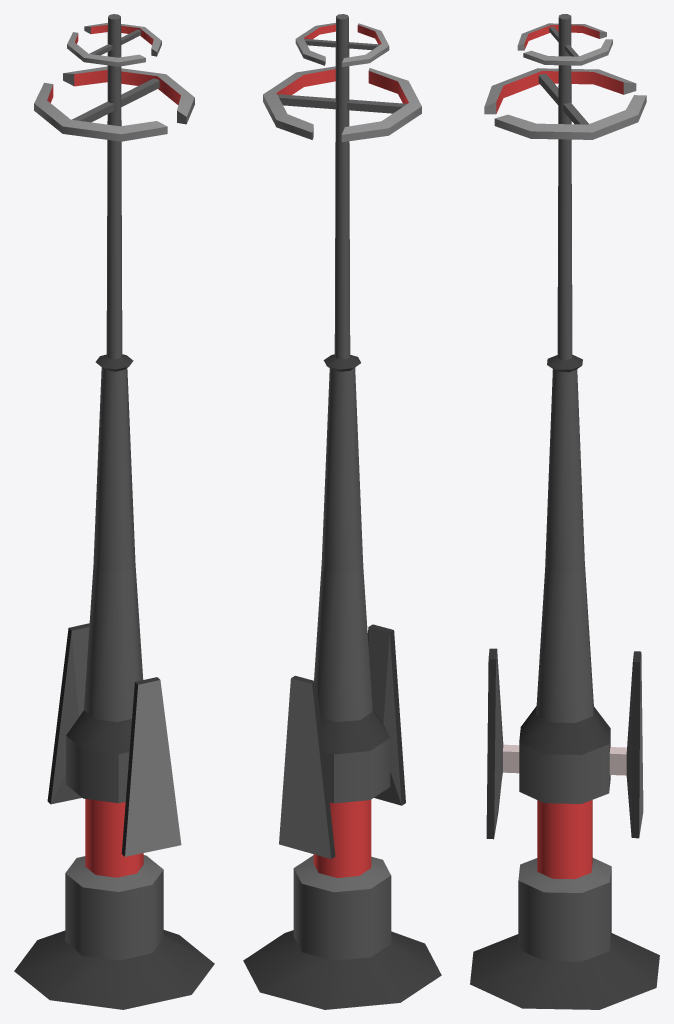
File: Antenna.fbx
3 renders of one model, left to right at view 1: azimuth 30°, elevation 25°; view 2: azimuth 150°, elevation 25°; view 3: azimuth 270°, elevation 25°, orthographic.
Parts seen in each view (by area): view 1: Antenna; view 2: Antenna; view 3: Antenna.
Part boxes in pixels (x1=…): Antenna: x1=14, y1=14, x2=214, y2=1009; Antenna: x1=243, y1=14, x2=441, y2=1009; Antenna: x1=470, y1=14, x2=659, y2=1009.
Size of the model in its own units: 60.57 by 335 by 60.57.
